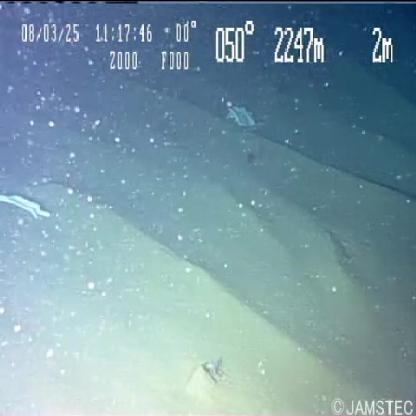Rác: (0, 191, 51, 223), (226, 106, 264, 134)
